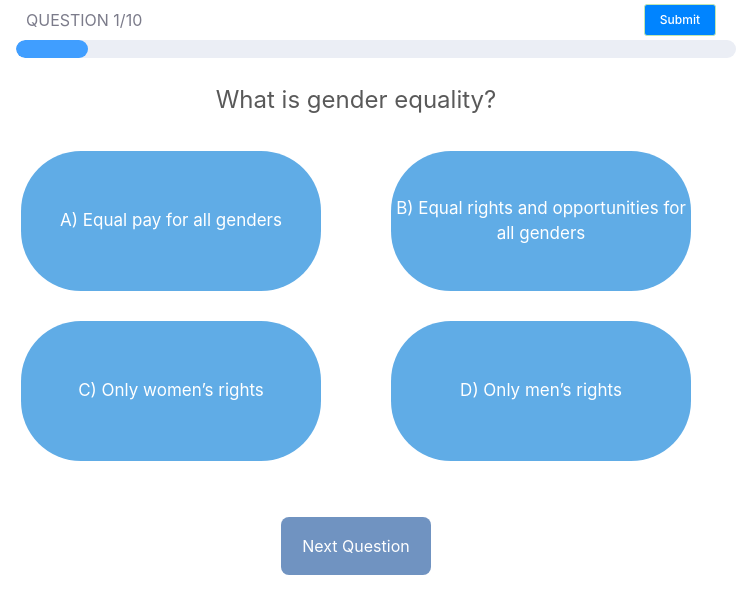
Test: MultipleChoice.vue › handles next question click
Note: simulate chosen a choice
Click the list item "A) Equal pay for all genders" at (171, 221), box [21,151,321,291]
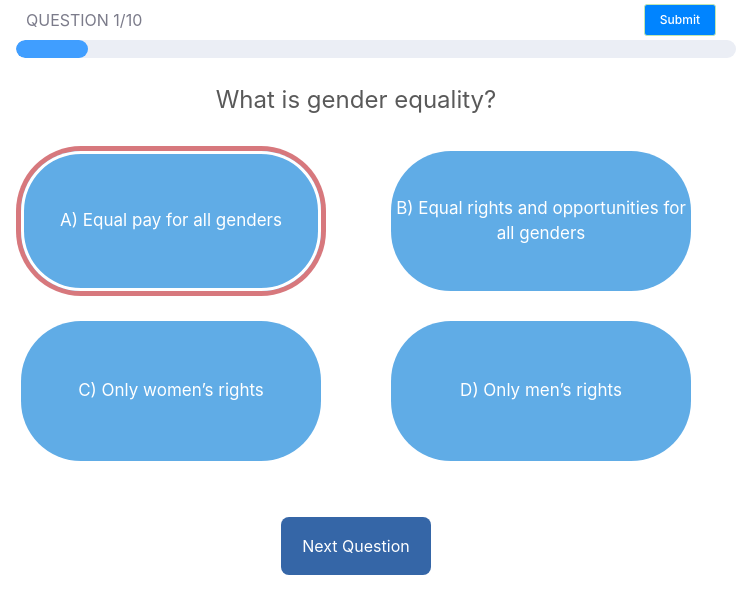
Note: click the 'next' button
Click the text with class "next" at (356, 546), box [281,517,431,575]
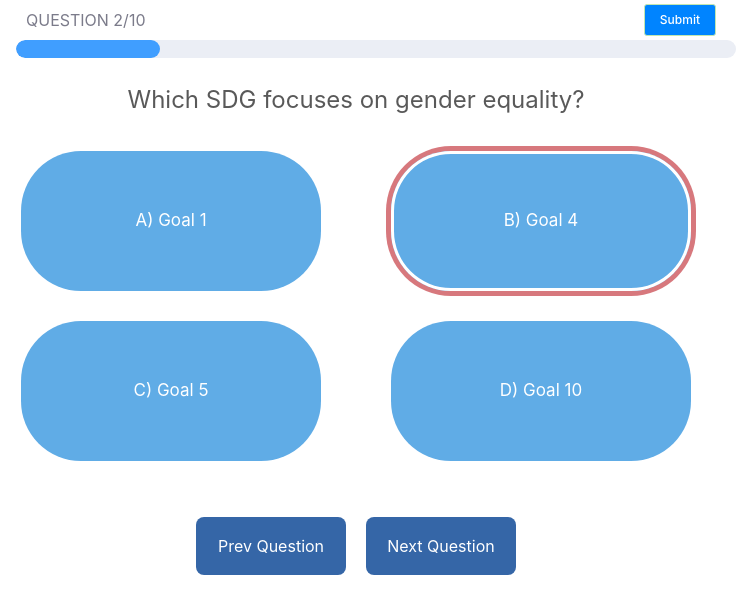
Result: the text with class "name" reads "Which SDG focuses on gender equality?" at [128,85,584,114]
